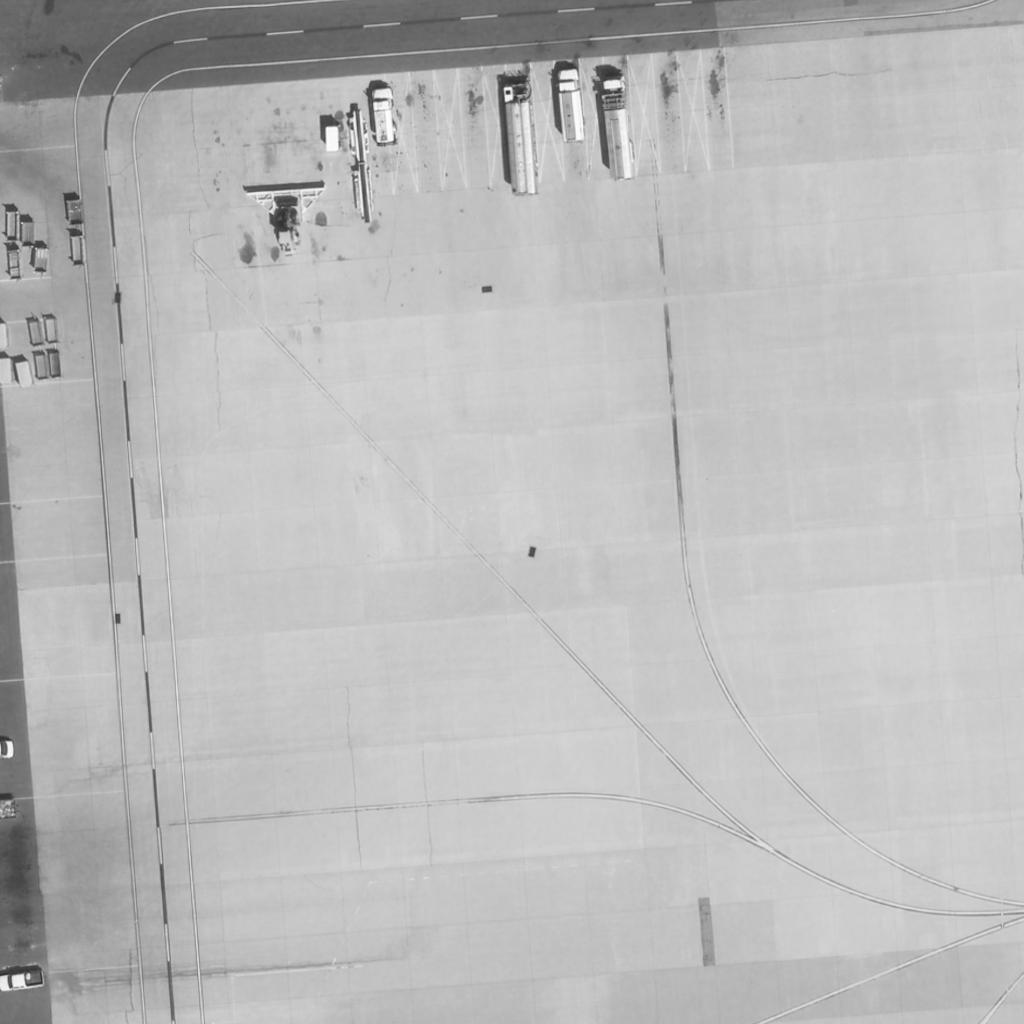vehicle: (243, 189, 331, 257), (504, 70, 538, 198), (604, 78, 636, 182), (553, 71, 585, 143), (371, 89, 397, 147)
